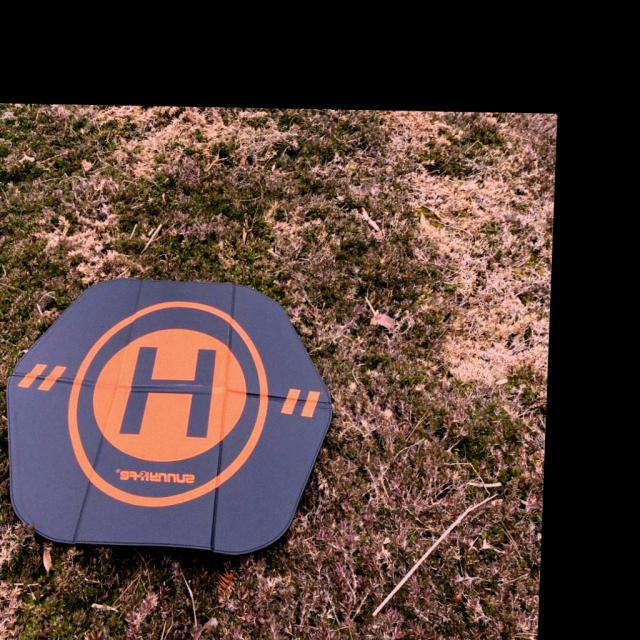helipad: (64, 296, 276, 516)
